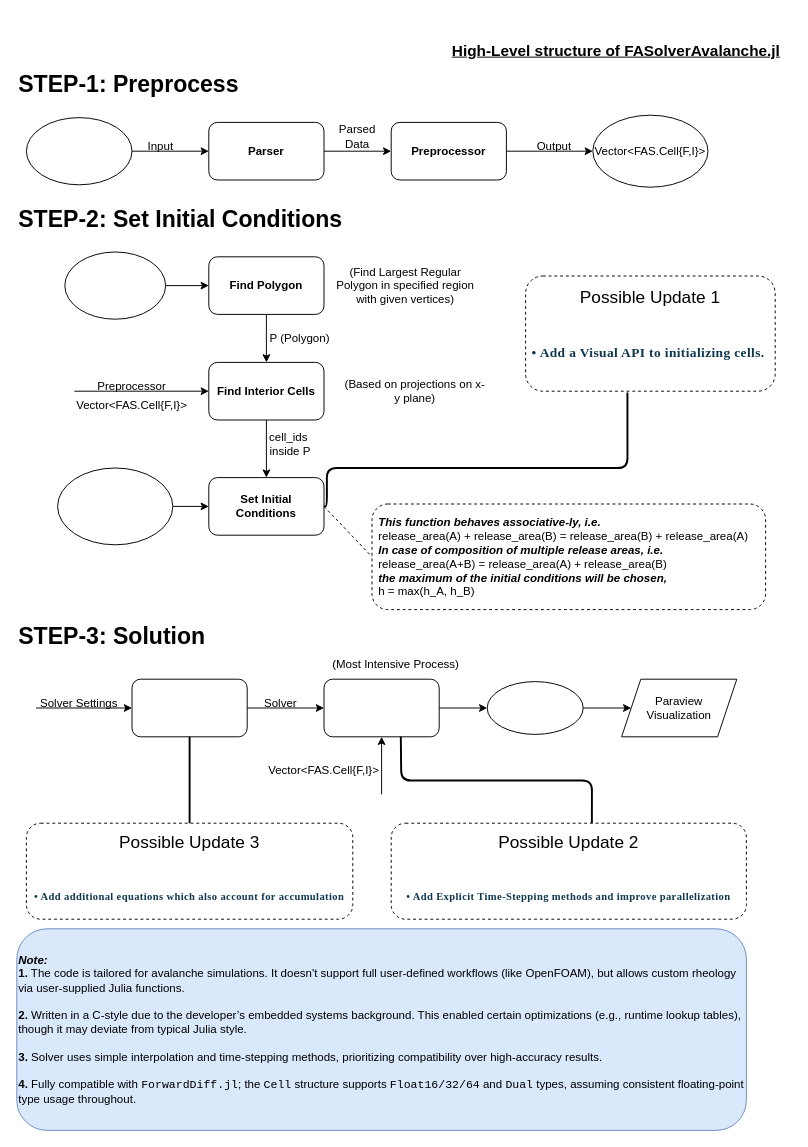
Some shapes in this 808 by 1147 pixel diagram are drawn without their labels. The centre of each missing label's shape, as x and y in pixels:
[xMin, xMax] [yMin, yMax] nVertices: the point at 115,285
Generate Solver: the point at 189,707
Initial Thickness h_0: the point at 115,506
OpenFoam Vertices, Faces, and FaceLabels: the point at 78,151
Results (Saved To Disc): the point at 534,707
Solution: the point at 381,707
